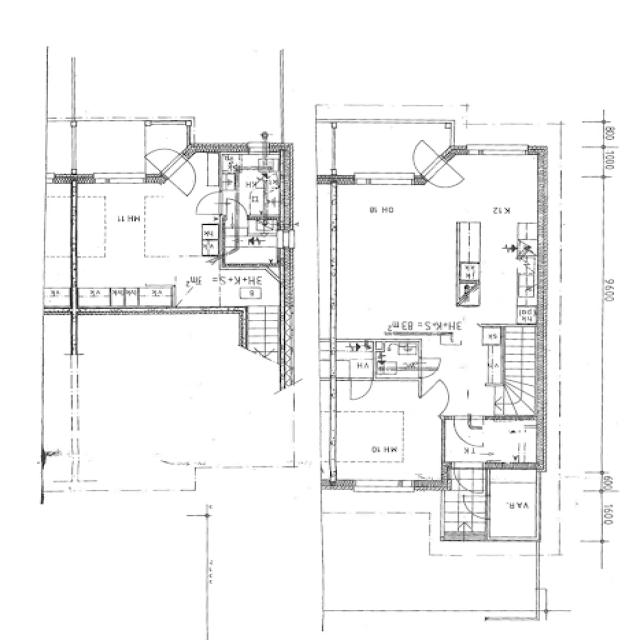door: (449, 416, 485, 450), (420, 376, 452, 414), (167, 165, 197, 197), (193, 189, 223, 217), (144, 150, 174, 178), (431, 163, 462, 190), (411, 138, 436, 170), (347, 375, 375, 403), (454, 467, 479, 494), (227, 200, 248, 218)
window: (351, 477, 416, 496), (350, 171, 418, 188), (468, 144, 532, 159), (91, 170, 146, 187)
zone: (331, 183, 543, 341), (77, 180, 220, 312), (330, 376, 444, 486), (444, 419, 541, 469), (73, 120, 147, 180), (221, 150, 281, 218), (488, 468, 540, 543), (221, 222, 282, 268), (560, 484, 604, 546), (218, 267, 280, 306), (374, 340, 421, 380), (41, 454, 79, 496), (332, 342, 375, 378)
